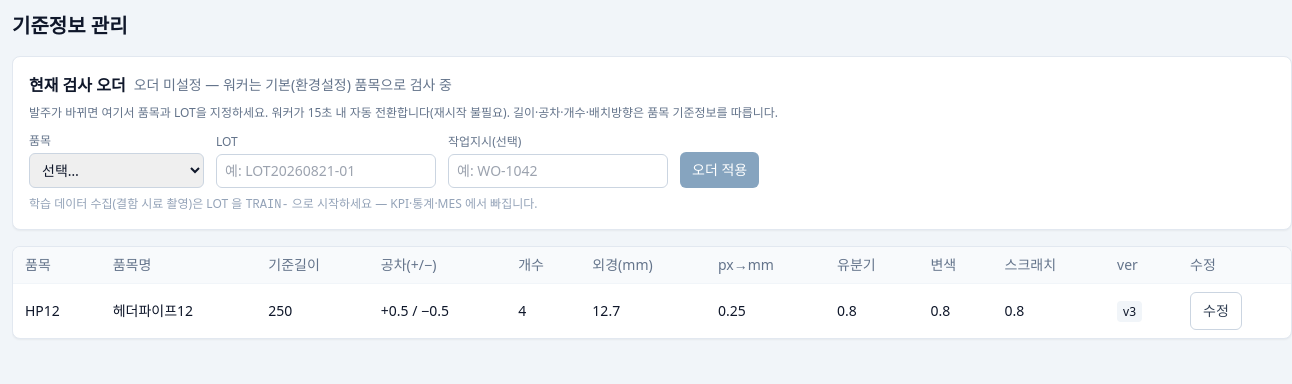
Scenario: 현재 검사 오더 (발주 기반 전환) › 품목 선택 + LOT 입력 후 적용 → putActiveOrder 올바른 body 호출
Select "HP12 — 헤더파이프12" in the dropdown with test id "order-item" at (116, 170), box [29,153,204,188]
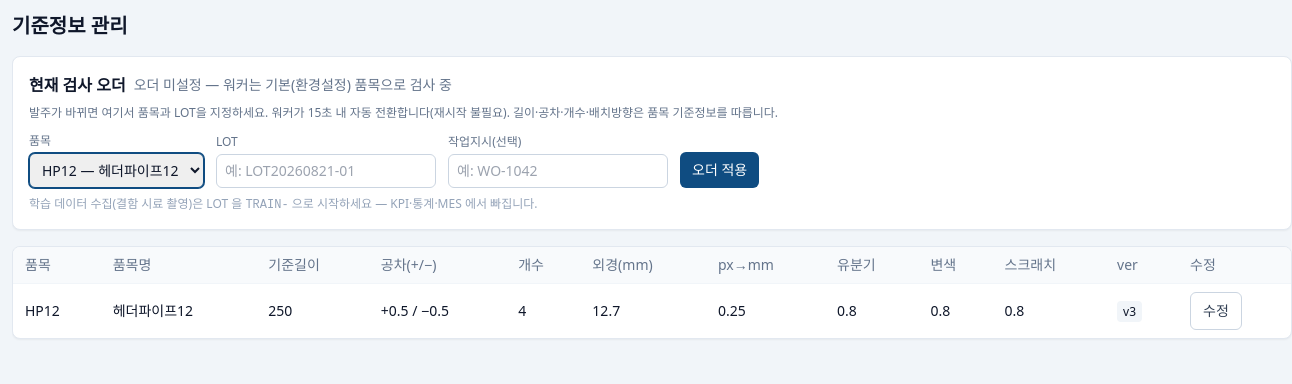
Type "LOT-9" into the field with test id "order-lot" at (326, 171), box [216,154,436,188]
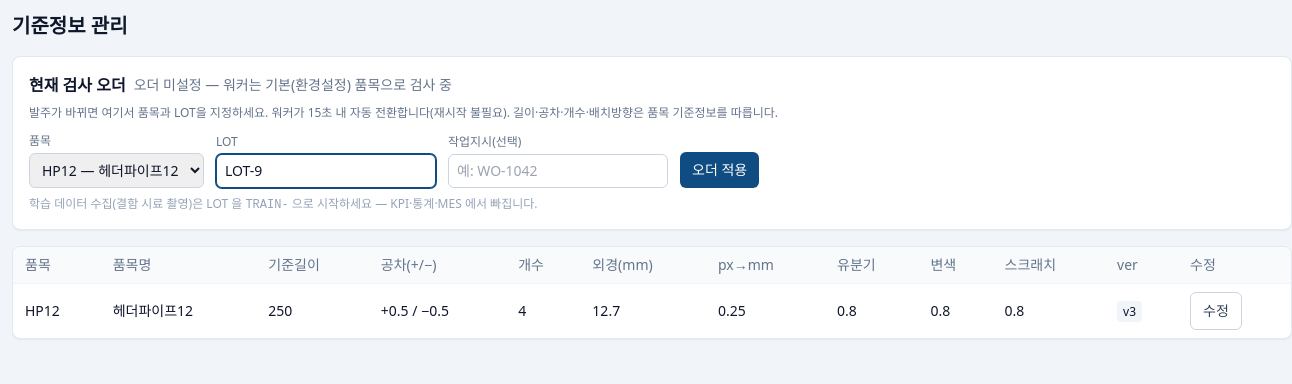
Click the button with test id "order-apply" at (720, 170), box [680,152,759,188]
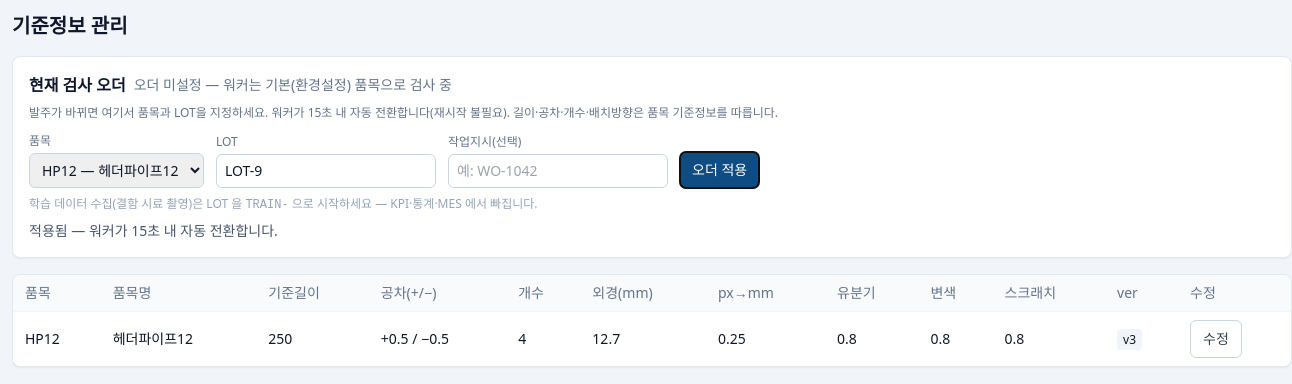
expect the text with test id "order-msg" shows "적용됨": met, box [29,221,278,240]
